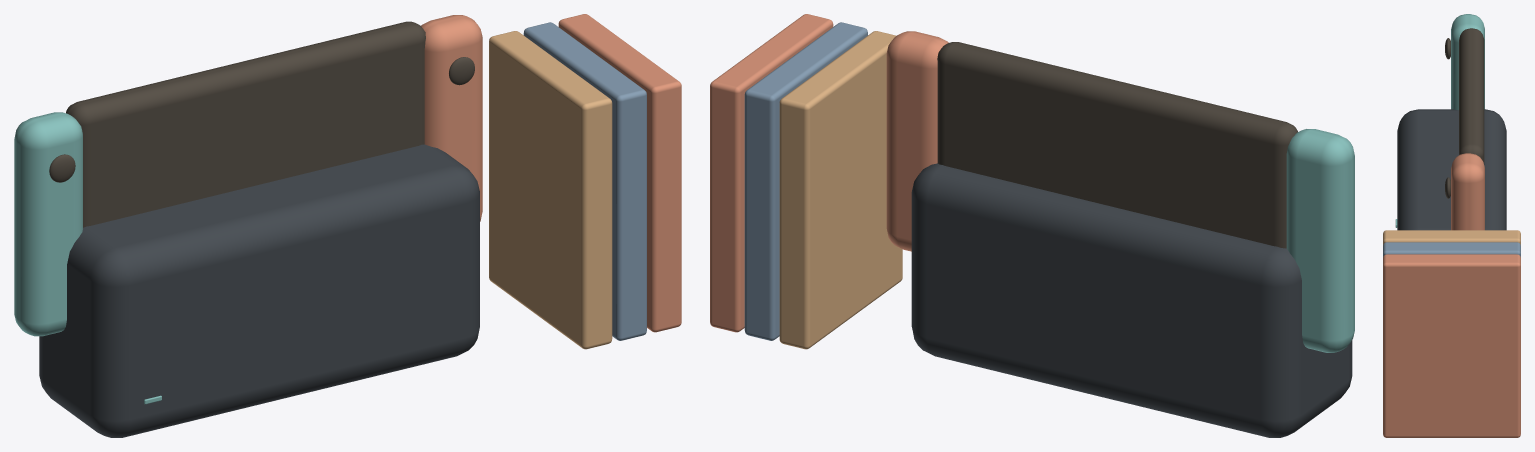
File: family-game-dock-v1.glb
The picture shows the model from 3 angles, left to right: view 1: azimuth 30°, elevation 25°; view 2: azimuth 150°, elevation 25°; view 3: azimuth 270°, elevation 25°; orthographic projection. The views are drawn at different scales.
Visible parts, largest first — view 1: Charging dock, Game case (×3), Handheld screen, Detachable grip (×2); view 2: Charging dock, Game case (×3), Handheld screen, Detachable grip (×2); view 3: Game case (×3), Charging dock, Detachable grip (×2), Handheld screen.
Part boxes in pixels (x1,y1,x2,y2): Charging dock: [39, 144, 479, 437]; Game case (×3): [489, 14, 681, 349]; Handheld screen: [66, 21, 425, 227]; Detachable grip (×2): [14, 15, 482, 336]; Charging dock: [911, 163, 1352, 437]; Game case (×3): [710, 14, 902, 349]; Handheld screen: [937, 42, 1297, 248]; Detachable grip (×2): [886, 31, 1354, 352]; Game case (×3): [1383, 230, 1520, 437]; Charging dock: [1397, 109, 1506, 230]; Detachable grip (×2): [1451, 14, 1484, 230]; Handheld screen: [1459, 28, 1484, 164].
Size of the model in its own units: 0.279 by 0.1365 by 0.077.
